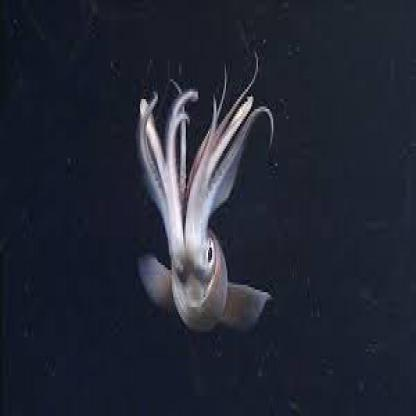colossal_squid: (119, 50, 288, 387)
